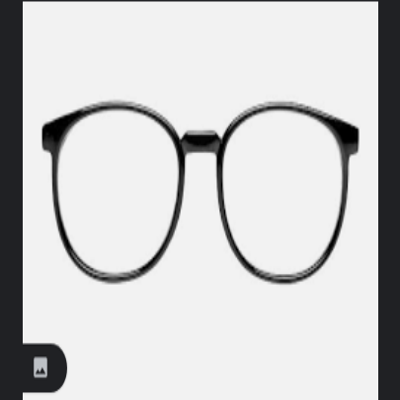glasses: (37, 97, 365, 301)
